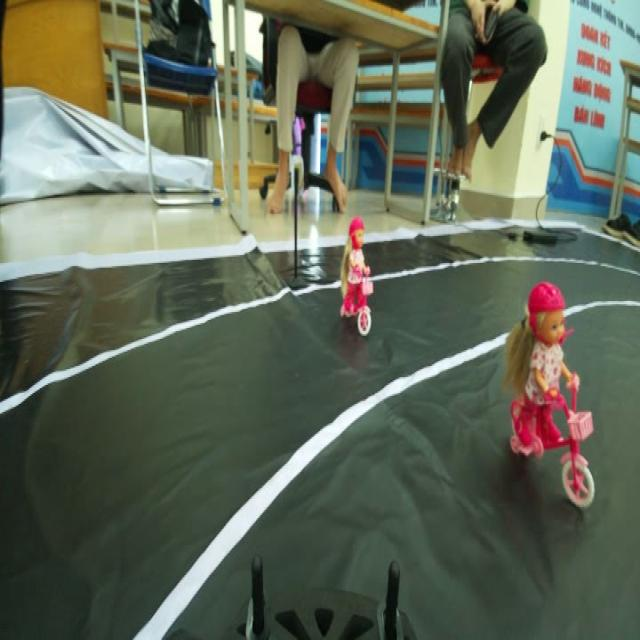pedestrian: (503, 262, 603, 522), (333, 215, 390, 351)
